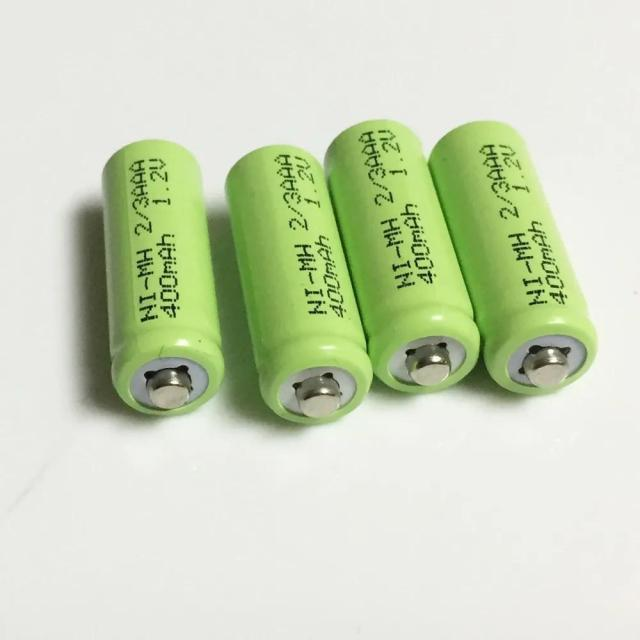battery: (429, 119, 601, 397), (326, 116, 480, 398), (225, 146, 376, 424), (102, 137, 226, 419)
